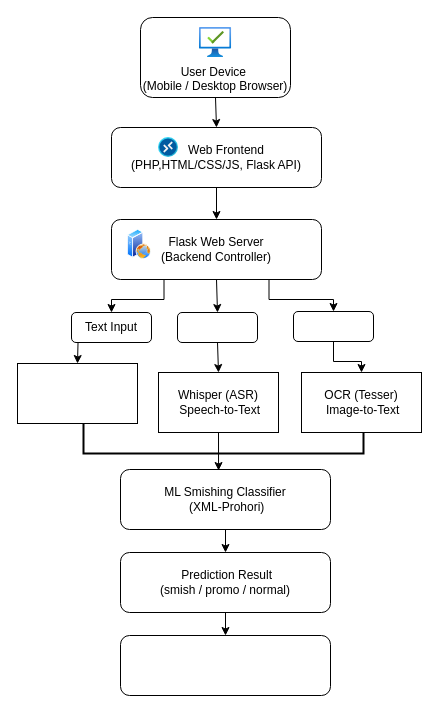
Image size: 439x713. Some labels were removed from this diagram. Here are the shapes that lost their labels. From the top down, the centre of each, then its label:
(217,327): Audio File
(333,326): Image File
(77,393): Check for Links & use VirusTotal
(225,665): Send Result to Frontend (Display result in Web)
